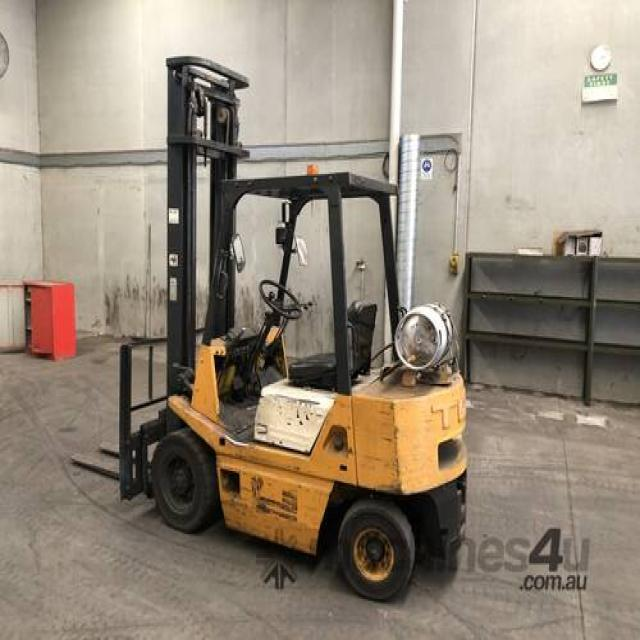forklift: (148, 45, 480, 620)
